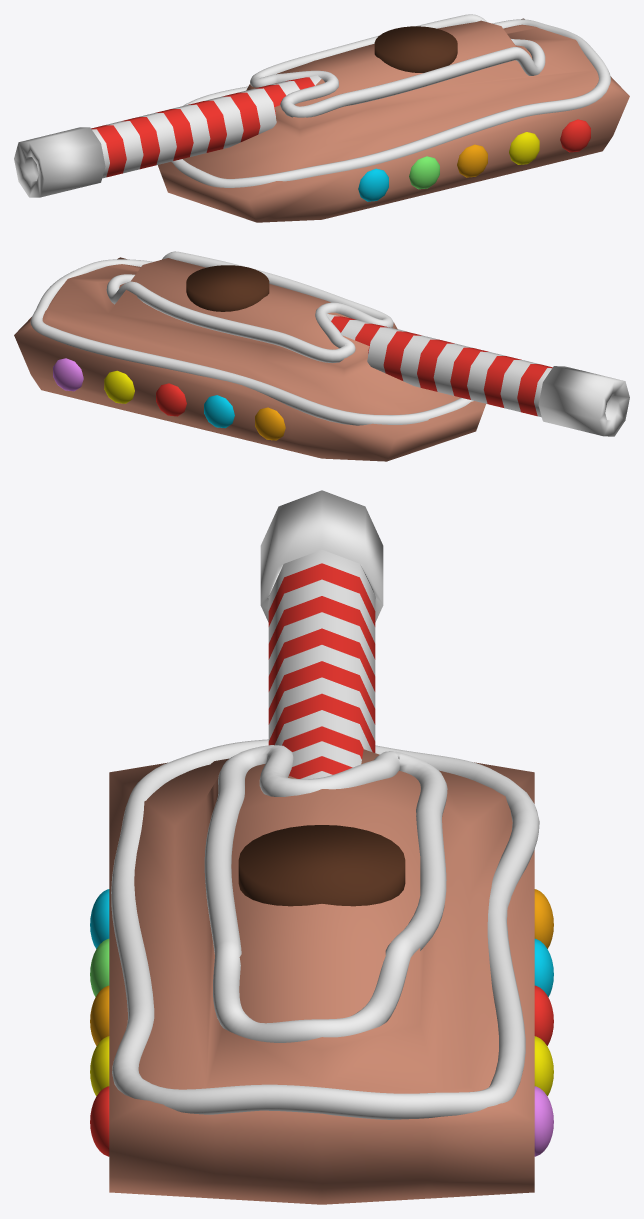
Rendered from tanktop.glb.
3 renders of one model, top to bottom at view 1: azimuth 30°, elevation 25°; view 2: azimuth 150°, elevation 25°; view 3: azimuth 270°, elevation 25°, orthographic. The views are drawn at different scales.
Parts seen in each view (by area): view 1: Cube.015; view 2: Cube.015; view 3: Cube.015.
Part boxes in pixels (bbox=[...]): Cube.015: bbox=[14, 14, 629, 222]; Cube.015: bbox=[14, 251, 629, 461]; Cube.015: bbox=[90, 490, 553, 1204].
Size of the model in its own units: 3.73 by 0.6424 by 1.34.
